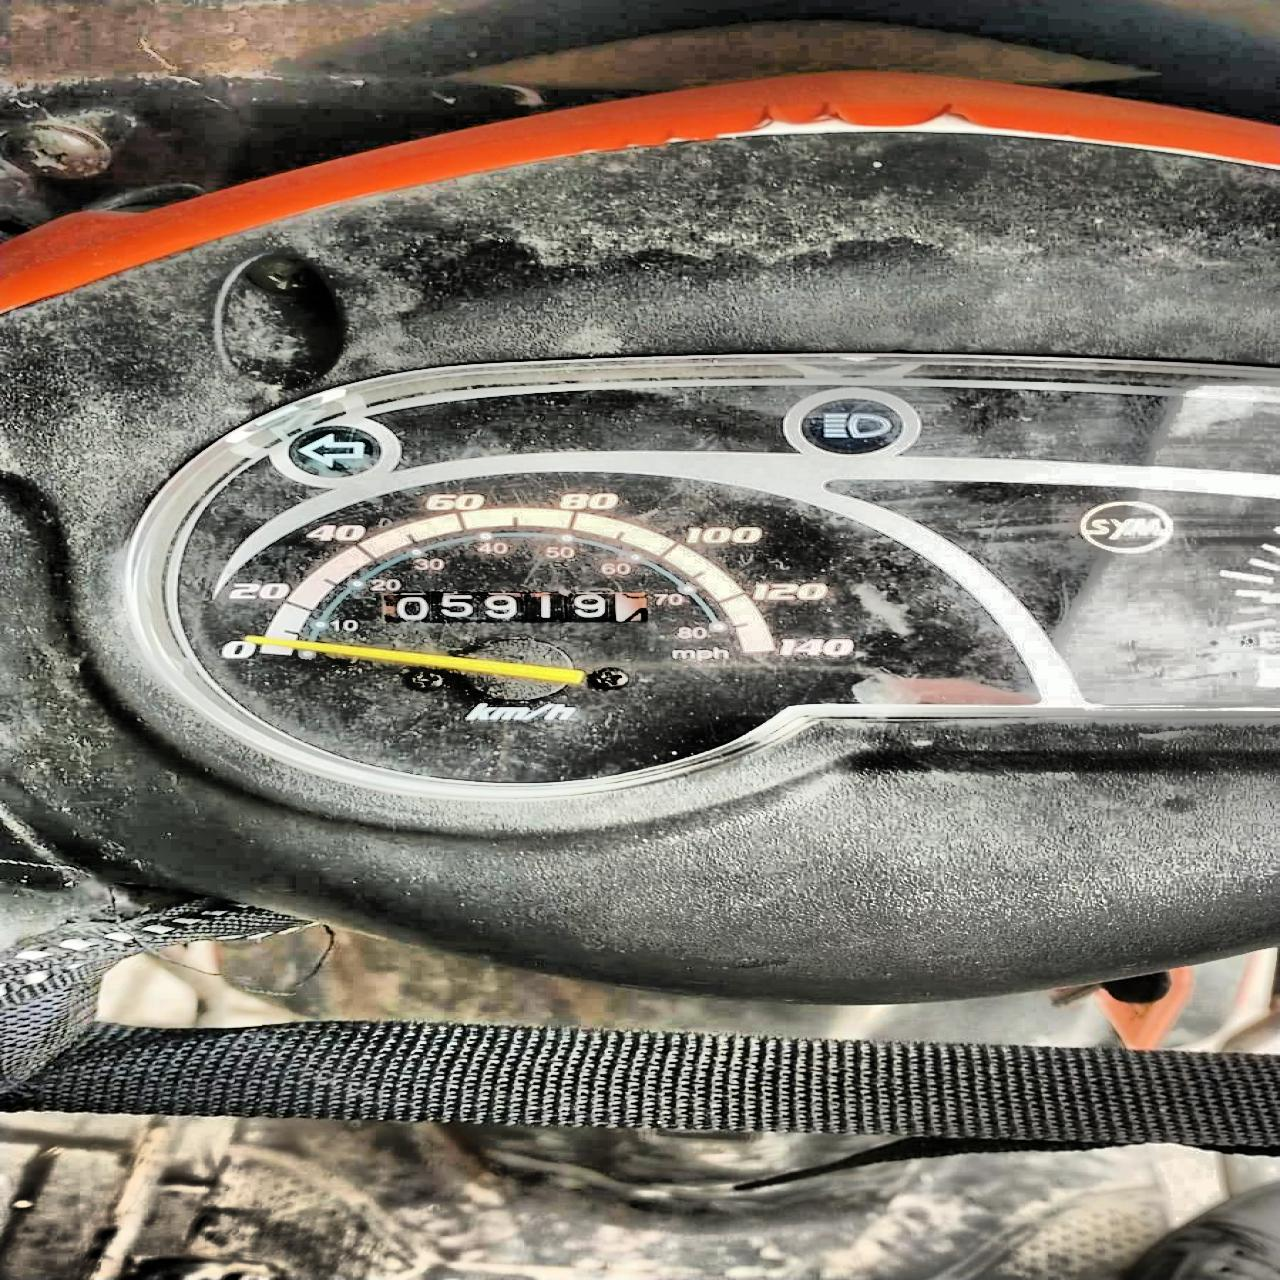0: (393, 595, 430, 618)
1: (536, 591, 556, 620)
4: (618, 602, 648, 622)
5: (438, 592, 476, 617)
9: (483, 592, 519, 620), (570, 592, 605, 620)
odometer: (379, 590, 651, 622)
